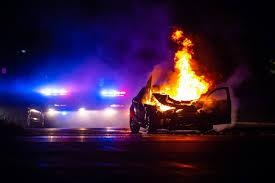fire: (145, 29, 211, 108)
